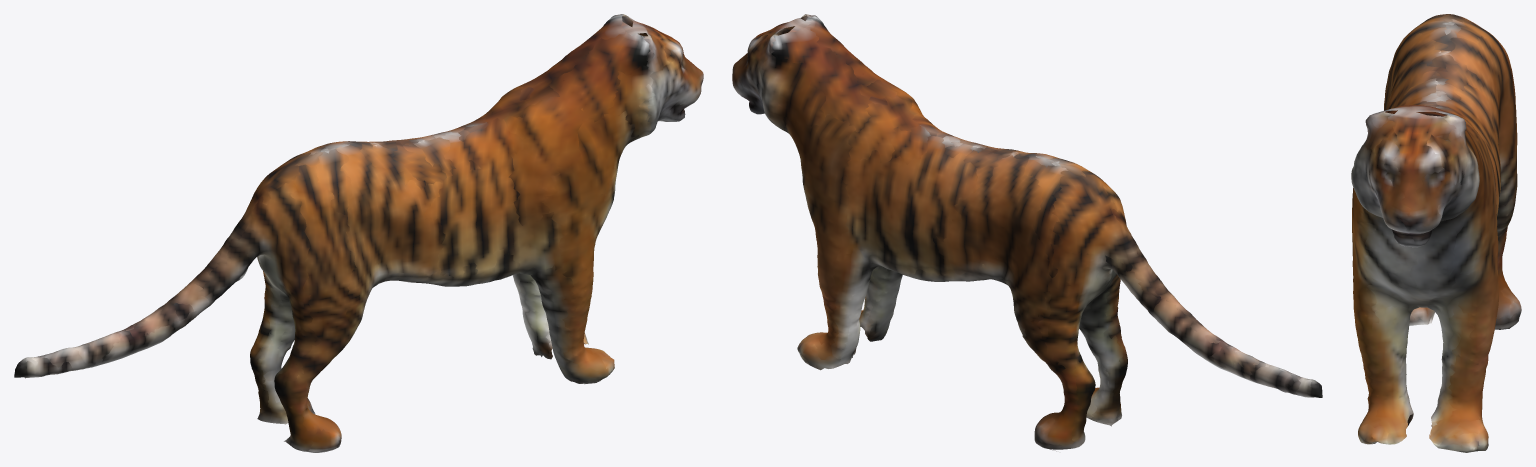
The model's file is asset.gltf.
The picture shows the model from 3 angles, left to right: view 1: azimuth 30°, elevation 25°; view 2: azimuth 150°, elevation 25°; view 3: azimuth 270°, elevation 25°; orthographic projection. The views are drawn at different scales.
Parts seen in each view (by area): view 1: texturedMesh; view 2: texturedMesh; view 3: texturedMesh.
Boxes of the visible parts, x1,y1,x2,y2 form: texturedMesh: [14, 14, 703, 452]; texturedMesh: [732, 14, 1322, 451]; texturedMesh: [1351, 14, 1521, 452].
Bounding box in the file's own units: 0.4726 × 0.2356 × 0.0951.
Materials: 1 (1 with a texture image).
